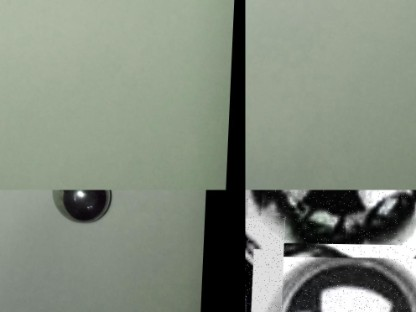ironball: (246, 189, 415, 258), (253, 247, 415, 311), (245, 215, 285, 311), (47, 187, 113, 226), (245, 189, 264, 218)
